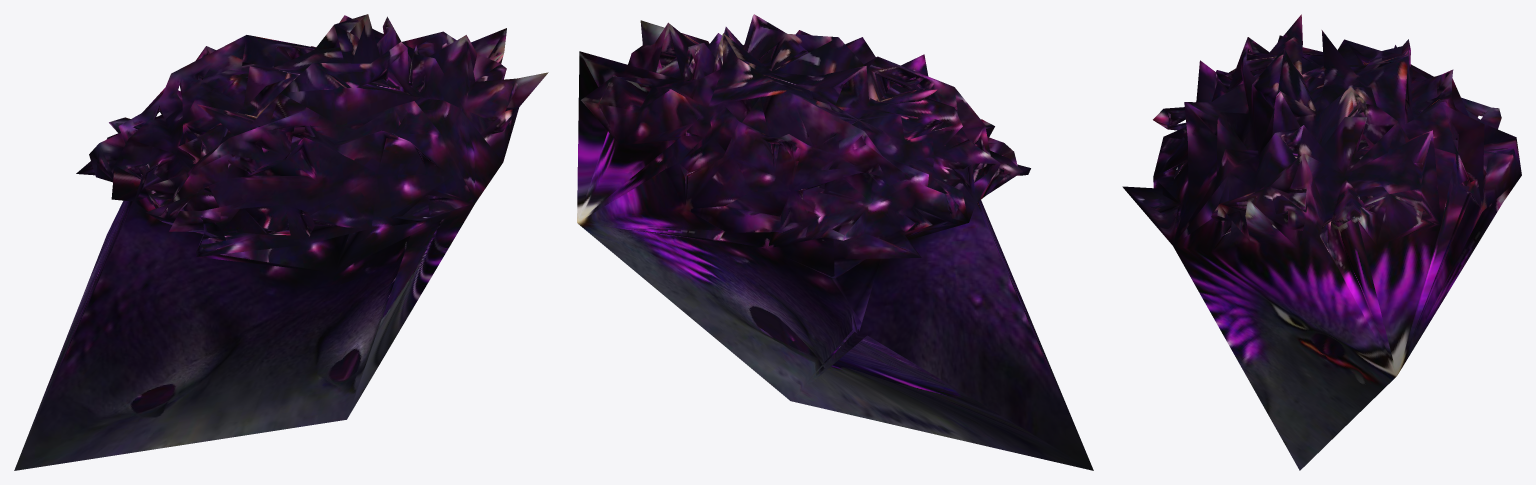
File: abe7334a19bd_8be0bdc3c843_evil_porcupine_with.glb
3 views of the same model, side by side, from view 1: azimuth 30°, elevation 25°; view 2: azimuth 150°, elevation 25°; view 3: azimuth 270°, elevation 25° (orthographic). The views are drawn at different scales.
Parts seen in each view (by area): view 1: mesh; view 2: mesh; view 3: mesh.
Part boxes in pixels (<box>): mesh: <box>14,14,548,470</box>; mesh: <box>577,14,1093,470</box>; mesh: <box>1122,14,1521,470</box>.
Size of the model in its own units: 0.8181 by 0.5835 by 0.5195.
1 material, 1 textured.
